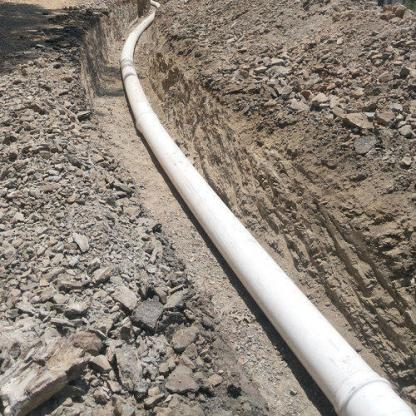PVC: (121, 4, 415, 414)
